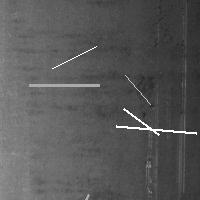scratches: (174, 65, 188, 196), (47, 41, 101, 73), (119, 104, 164, 140), (111, 121, 200, 138), (120, 70, 155, 109), (143, 123, 160, 196), (24, 80, 104, 90), (54, 190, 93, 200)
